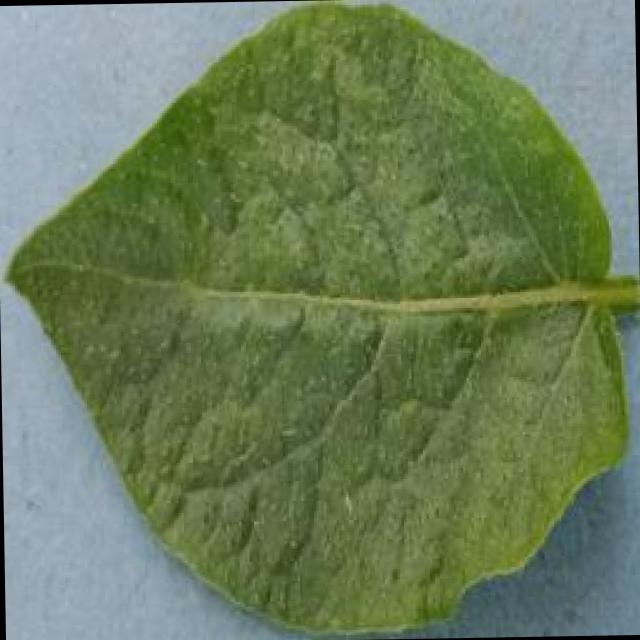Potato_Healthy: (0, 0, 630, 637)
